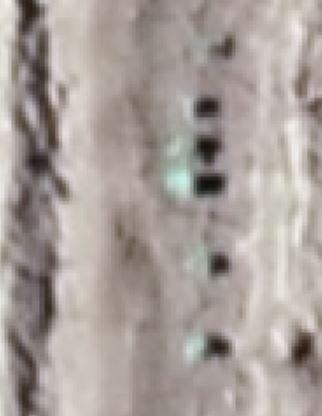cotton: (167, 171, 195, 192), (192, 245, 213, 272), (175, 136, 195, 158), (187, 338, 206, 359)
